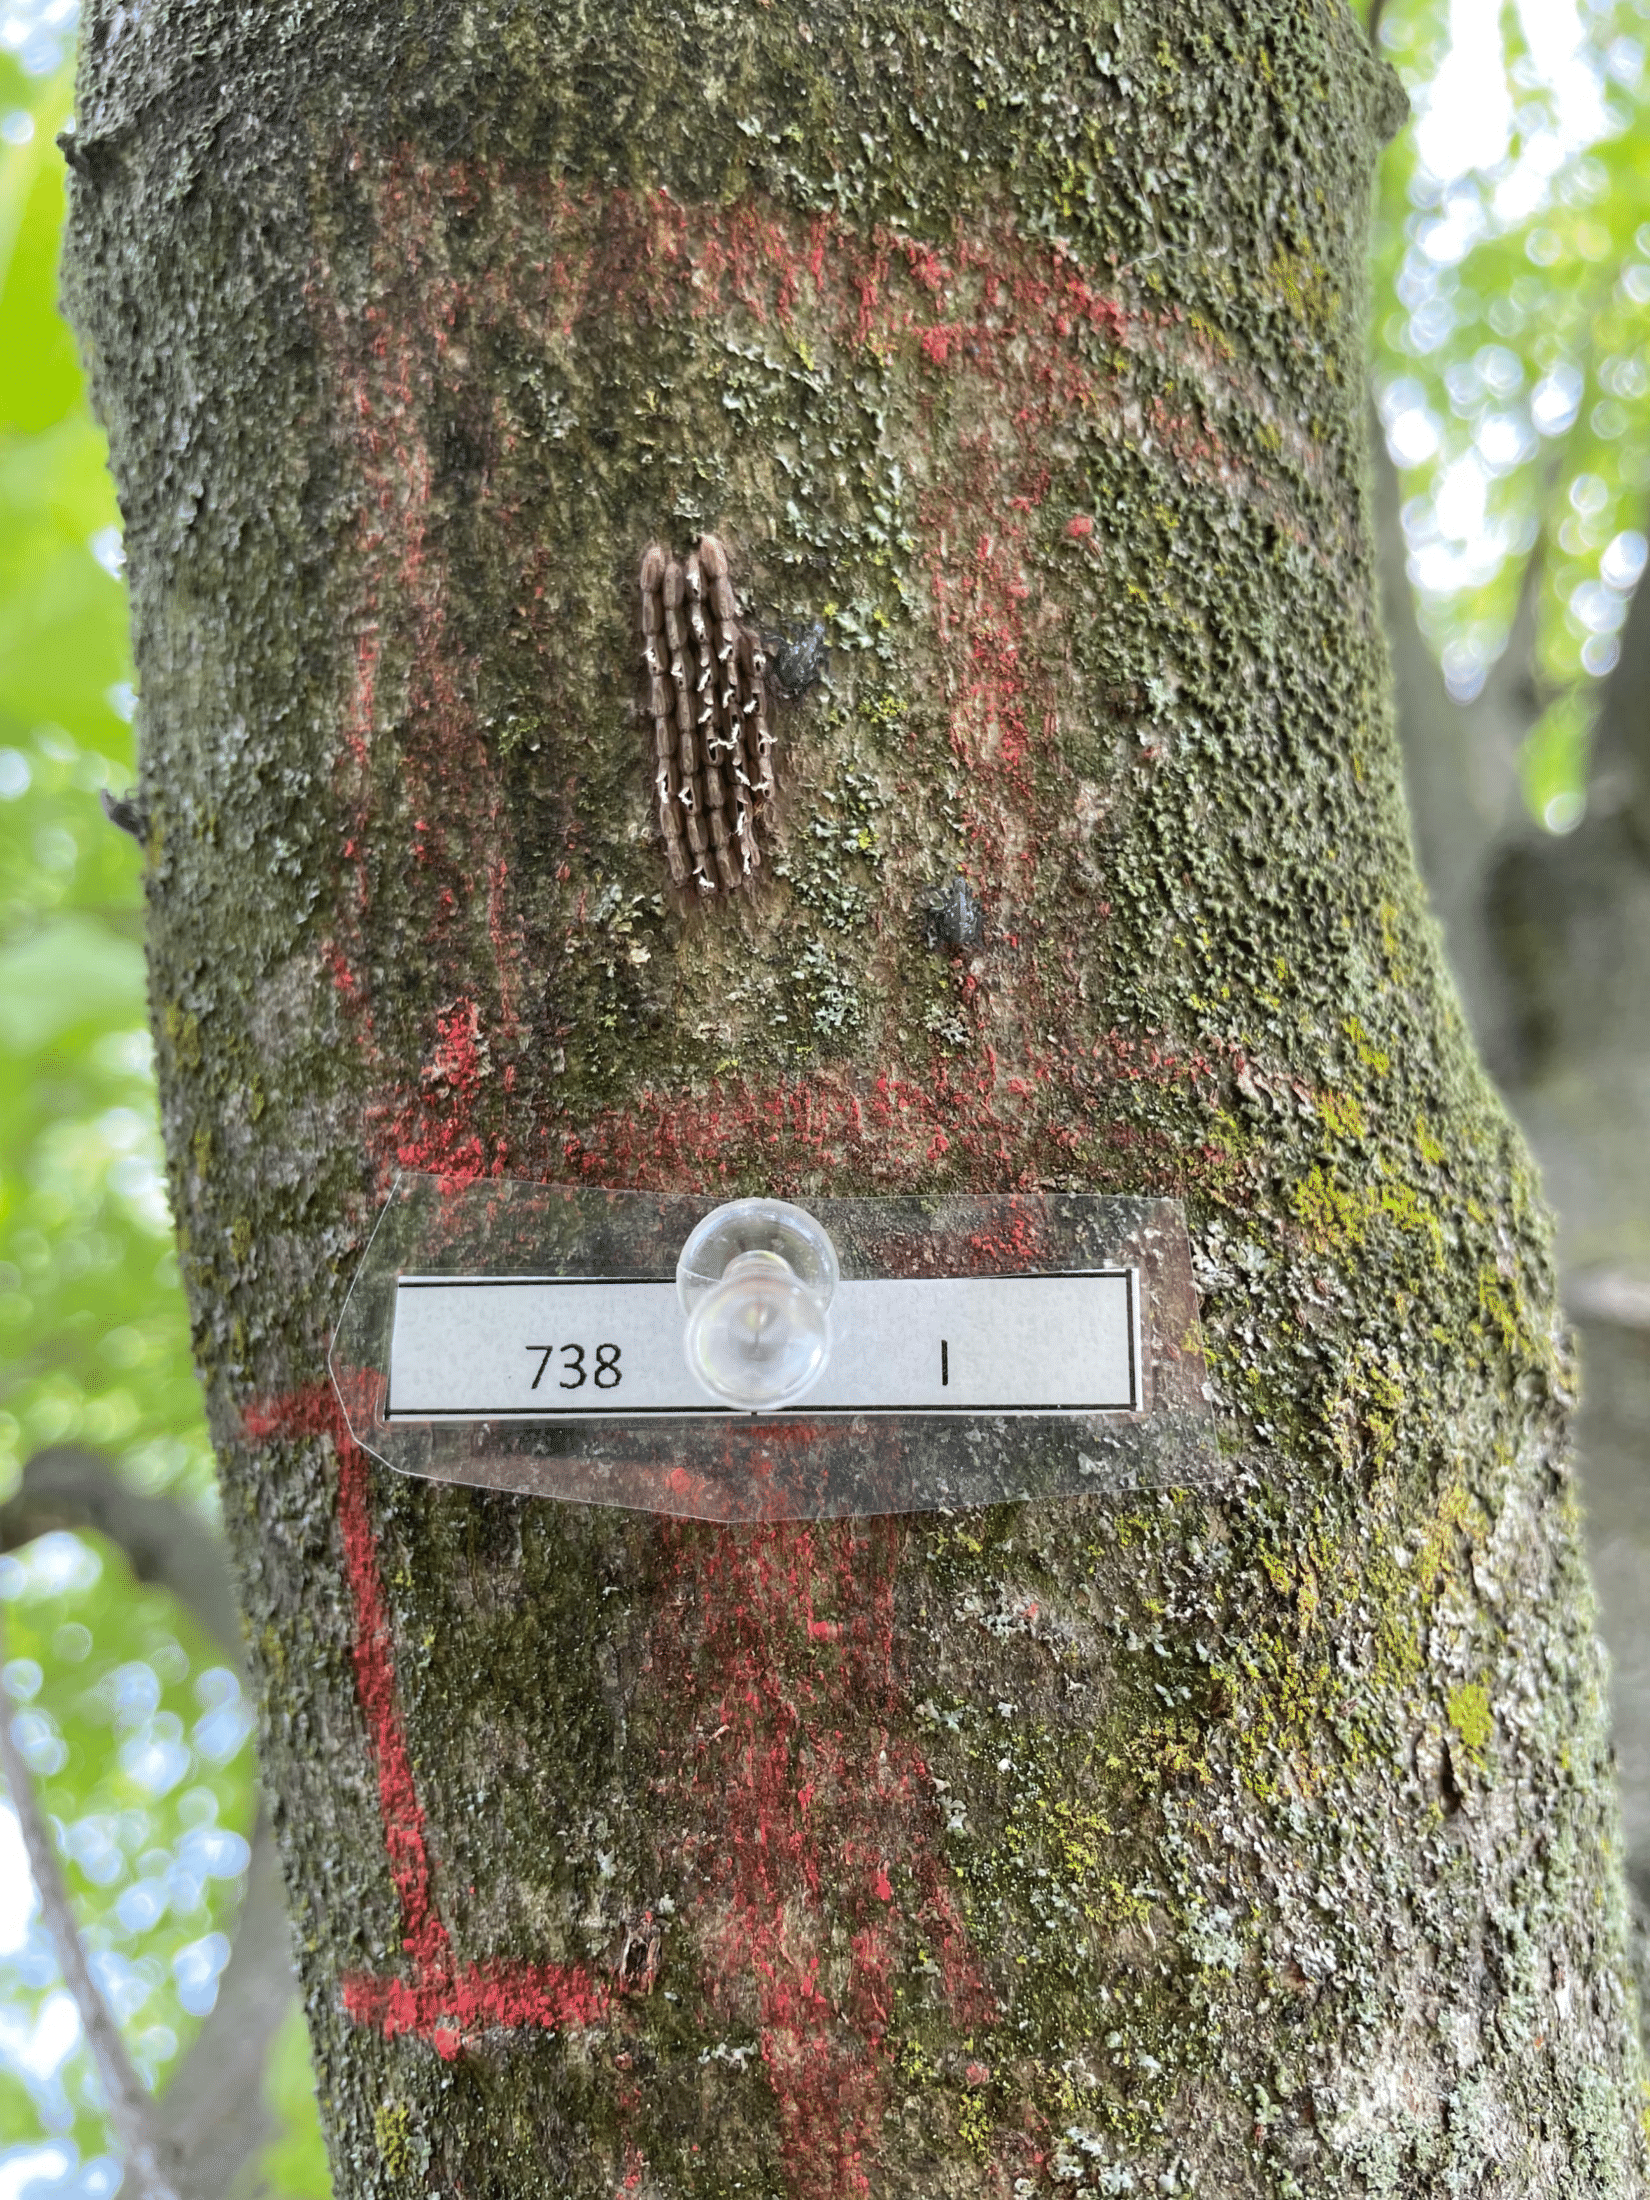egg masses: (619, 521, 770, 878)
instar nymph (1-3): (771, 622, 853, 709), (99, 780, 161, 856), (934, 877, 978, 948)
